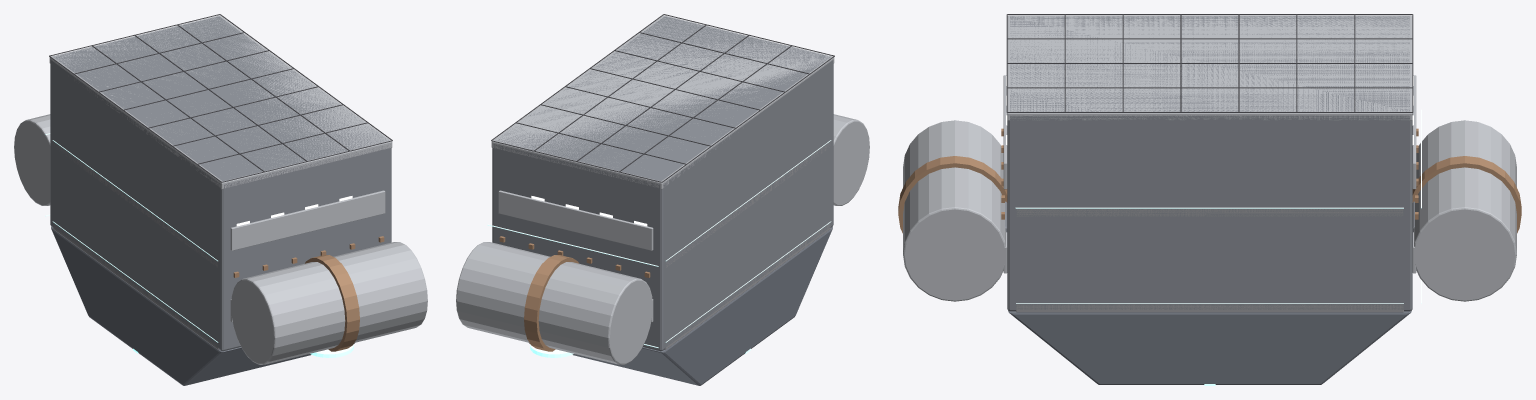
The model's file is ship_lift_7x4.glb.
3 views of the same model, side by side, from view 1: azimuth 30°, elevation 25°; view 2: azimuth 150°, elevation 25°; view 3: azimuth 270°, elevation 25° (orthographic). The views are drawn at different scales.
Visible parts, largest first — view 1: ext_hull, ext_lift_pod0, ext_deck_top, ext_hull_belly, ext_armor_plates, ext_deck_grid, ext_lift_pod2, ext_lift_ring0, int_deck_lower, int_deck_upper; view 2: ext_hull, ext_deck_top, ext_lift_pod2, ext_hull_belly, ext_armor_plates, ext_deck_grid, ext_lift_pod0, ext_lift_ring2, int_deck_upper, int_deck_lower, int_grid_33; view 3: ext_hull, ext_deck_top, ext_hull_belly, ext_lift_pod0, ext_lift_pod2, ext_deck_grid, int_deck_lower, int_deck_upper, ext_lift_ring0, ext_lift_ring2, ext_armor_plates, int_grid_33.
Boxes of the visible parts, x1=… form: ext_hull: x1=50, y1=16, x2=391, y2=351; ext_lift_pod0: x1=231, y1=242, x2=427, y2=364; ext_deck_top: x1=49, y1=15, x2=392, y2=189; ext_hull_belly: x1=51, y1=227, x2=354, y2=385; ext_armor_plates: x1=230, y1=190, x2=385, y2=322; ext_deck_grid: x1=49, y1=14, x2=392, y2=182; ext_lift_pod2: x1=14, y1=114, x2=50, y2=205; ext_lift_ring0: x1=305, y1=255, x2=359, y2=351; int_deck_lower: x1=53, y1=223, x2=218, y2=349; int_deck_upper: x1=53, y1=141, x2=217, y2=267; ext_hull: x1=492, y1=16, x2=833, y2=351; ext_deck_top: x1=491, y1=15, x2=834, y2=189; ext_lift_pod2: x1=456, y1=242, x2=652, y2=364; ext_hull_belly: x1=529, y1=227, x2=832, y2=385; ext_armor_plates: x1=498, y1=190, x2=653, y2=322; ext_deck_grid: x1=491, y1=14, x2=834, y2=182; ext_lift_pod0: x1=833, y1=114, x2=869, y2=205; ext_lift_ring2: x1=524, y1=255, x2=578, y2=351; int_deck_upper: x1=666, y1=141, x2=830, y2=267; int_deck_lower: x1=665, y1=223, x2=830, y2=349; int_grid_33: x1=487, y1=140, x2=831, y2=266; ext_hull: x1=1007, y1=16, x2=1412, y2=311; ext_deck_top: x1=1007, y1=15, x2=1412, y2=120; ext_hull_belly: x1=1008, y1=311, x2=1411, y2=384; ext_lift_pod0: x1=903, y1=120, x2=1005, y2=301; ext_lift_pod2: x1=1414, y1=120, x2=1516, y2=301; ext_deck_grid: x1=1006, y1=14, x2=1413, y2=112; int_deck_lower: x1=1016, y1=304, x2=1403, y2=312; int_deck_upper: x1=1017, y1=209, x2=1403, y2=216; ext_lift_ring0: x1=898, y1=156, x2=1007, y2=233; ext_lift_ring2: x1=1412, y1=156, x2=1521, y2=233; ext_armor_plates: x1=1003, y1=75, x2=1416, y2=273; int_grid_33: x1=1015, y1=109, x2=1421, y2=208.
Size of the model in its own units: 4.02 by 5.25 by 10.76.
